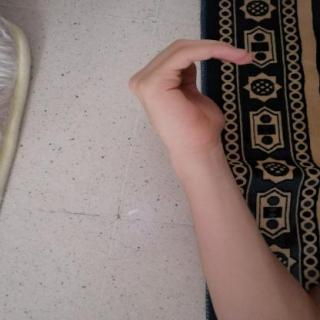HAA: (110, 28, 276, 154)
